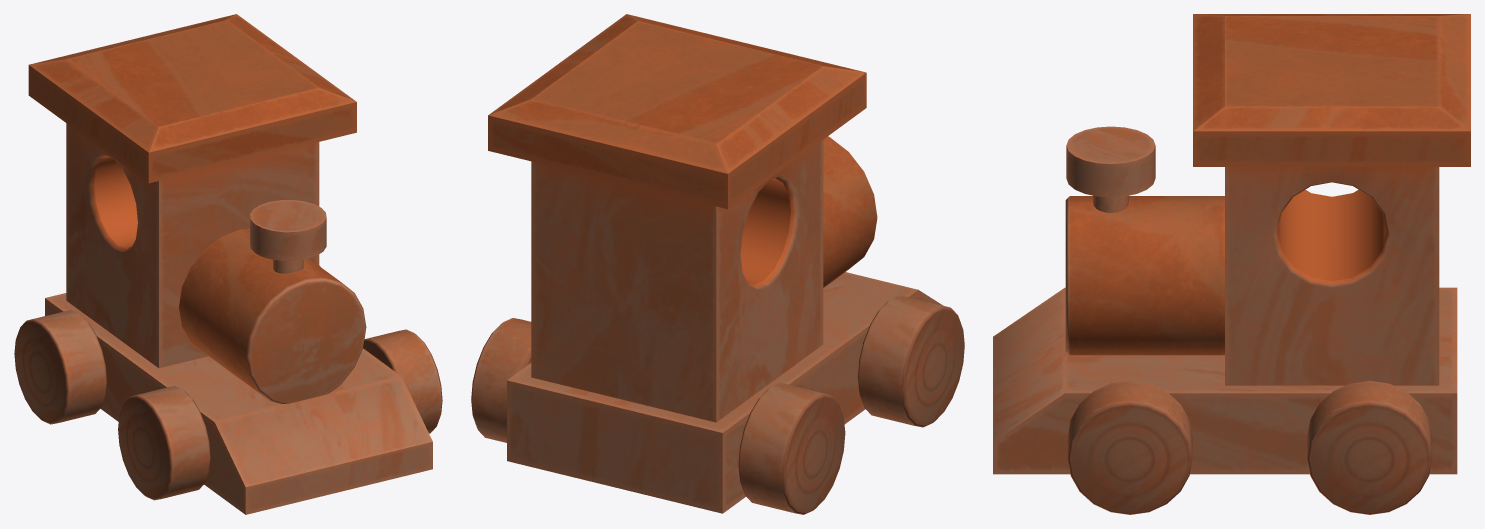
The model's file is Train_Engine_Anim.fbx.
3 renders of one model, left to right at view 1: azimuth 30°, elevation 25°; view 2: azimuth 150°, elevation 25°; view 3: azimuth 270°, elevation 25°, orthographic. The views are drawn at different scales.
Parts seen in each view (by area): view 1: Engine_Cabin_low, Engine_Baseplate_low, Engine_Tanker_low, Wheel_low10, Wheel_low11, Engine_Exhaust_low, Wheel_low; view 2: Engine_Cabin_low, Engine_Baseplate_low, Wheel_low11, Wheel_low10, Engine_Tanker_low, Wheel_low1; view 3: Engine_Cabin_low, Engine_Baseplate_low, Engine_Tanker_low, Wheel_low, Wheel_low1, Engine_Exhaust_low.
Part boxes in pixels (x1,y1,x2,y2): Engine_Cabin_low: [28, 14, 356, 368]; Engine_Baseplate_low: [45, 293, 432, 514]; Engine_Tanker_low: [179, 229, 366, 404]; Wheel_low10: [14, 310, 107, 424]; Wheel_low11: [118, 386, 210, 500]; Engine_Exhaust_low: [250, 200, 326, 260]; Wheel_low: [363, 329, 442, 433]; Engine_Cabin_low: [488, 14, 866, 422]; Engine_Baseplate_low: [507, 272, 943, 513]; Wheel_low11: [857, 295, 964, 427]; Wheel_low10: [738, 383, 845, 514]; Engine_Tanker_low: [823, 136, 877, 287]; Wheel_low1: [471, 318, 531, 442]; Engine_Cabin_low: [1193, 14, 1470, 385]; Engine_Baseplate_low: [993, 287, 1457, 474]; Engine_Tanker_low: [1065, 196, 1224, 355]; Wheel_low: [1067, 380, 1192, 514]; Wheel_low1: [1307, 380, 1432, 514]; Engine_Exhaust_low: [1066, 126, 1155, 197].
Bounding box in the file's own units: 306 × 350 × 401.
